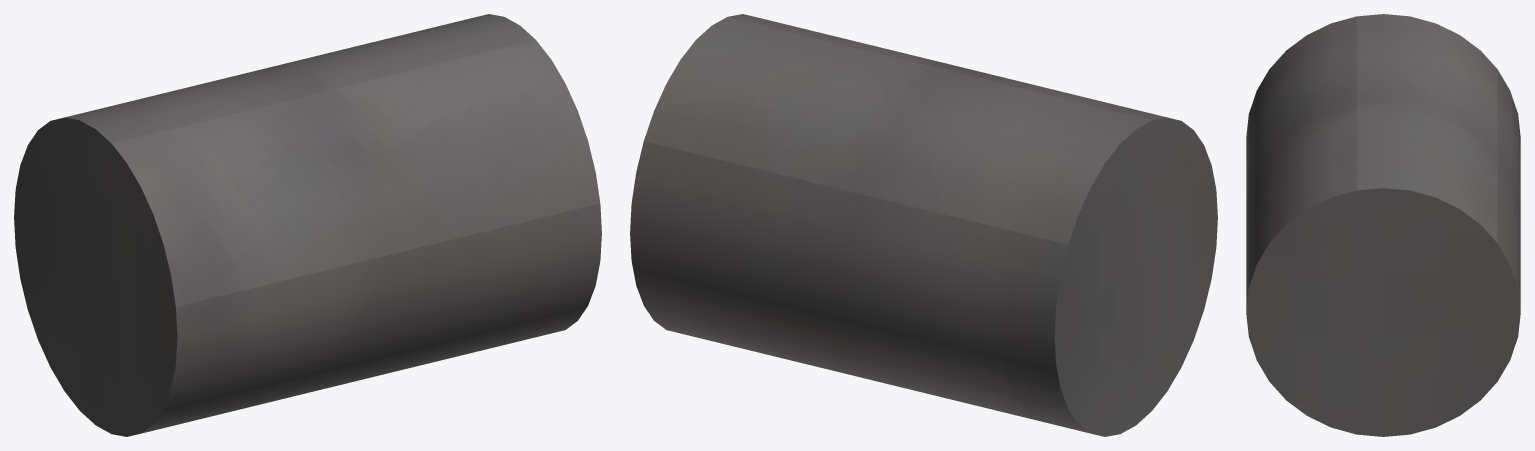
The model's file is selector_knob__selector_tip.glb.
3 views of the same model, side by side, from view 1: azimuth 30°, elevation 25°; view 2: azimuth 150°, elevation 25°; view 3: azimuth 270°, elevation 25° (orthographic). The views are drawn at different scales.
Visible parts, largest first — view 1: world; view 2: world; view 3: world.
Boxes of the visible parts, <box> form: world: <box>14,14,601,436</box>; world: <box>630,14,1217,436</box>; world: <box>1246,14,1520,436</box>.
Size of the model in its own units: 0.012 by 0.008 by 0.008.
1 material, 1 textured.
